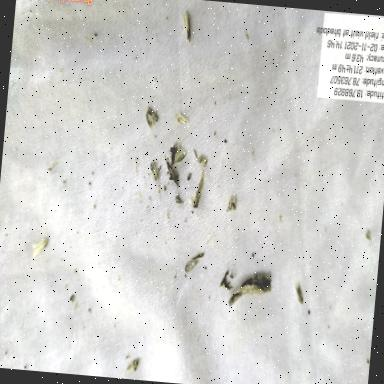pbw: (192, 170, 206, 210), (31, 236, 48, 260), (182, 11, 194, 44), (149, 162, 162, 182), (294, 285, 305, 305)
